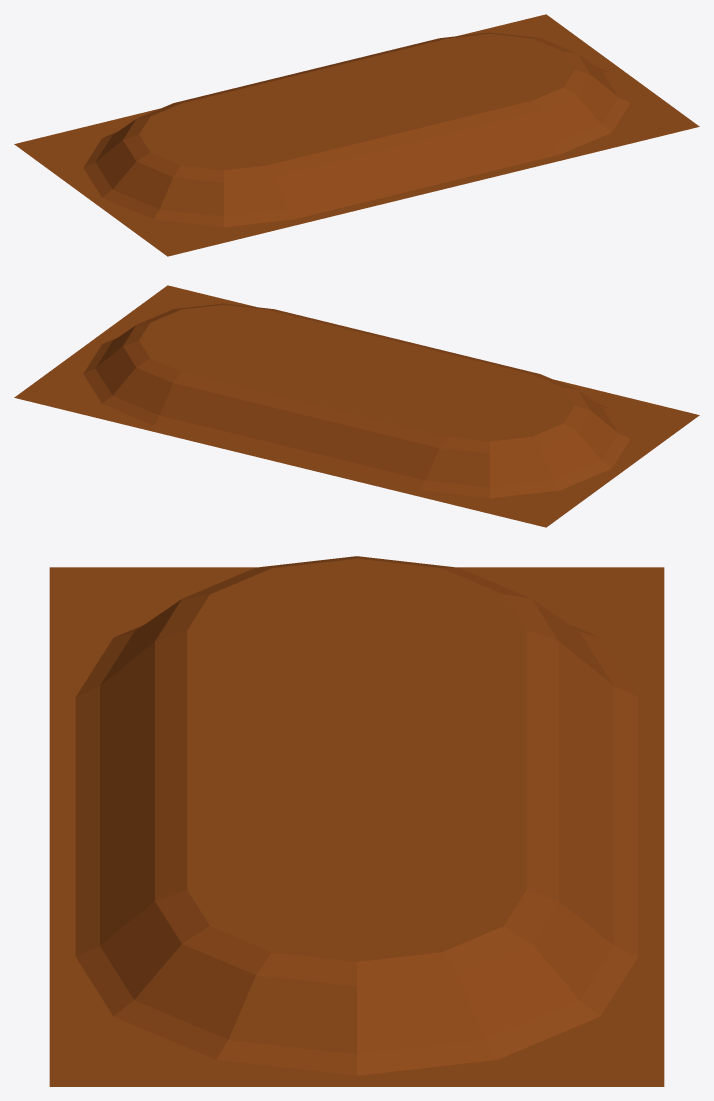
File: Proto_Dirt_Mound_w_Plane_02.fbx
The picture shows the model from 3 angles, top to bottom: view 1: azimuth 30°, elevation 25°; view 2: azimuth 150°, elevation 25°; view 3: azimuth 270°, elevation 25°; orthographic projection. The views are drawn at different scales.
Visible parts, largest first — view 1: Proto_Dirt_Mound_w_Plane_02; view 2: Proto_Dirt_Mound_w_Plane_02; view 3: Proto_Dirt_Mound_w_Plane_02.
Part boxes in pixels (bbox=[...]): Proto_Dirt_Mound_w_Plane_02: bbox=[14, 14, 699, 256]; Proto_Dirt_Mound_w_Plane_02: bbox=[14, 285, 699, 527]; Proto_Dirt_Mound_w_Plane_02: bbox=[49, 556, 664, 1086].
Size of the model in its own units: 1 by 0.06 by 0.5.
